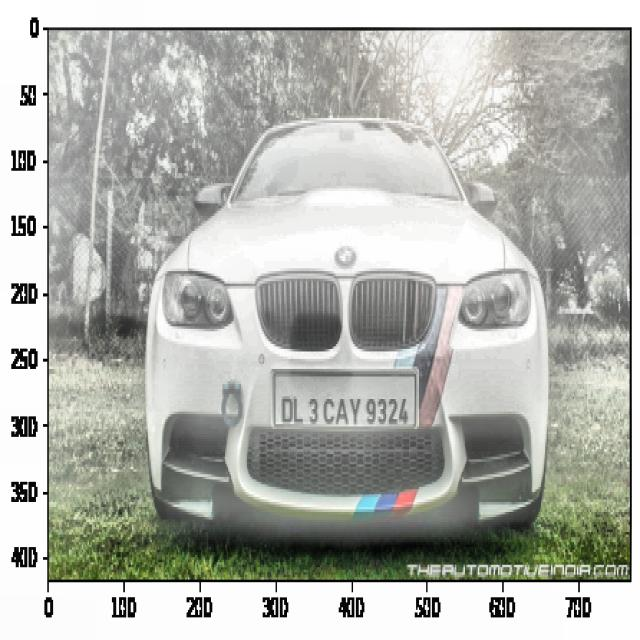license_plate: (278, 381, 421, 438)
